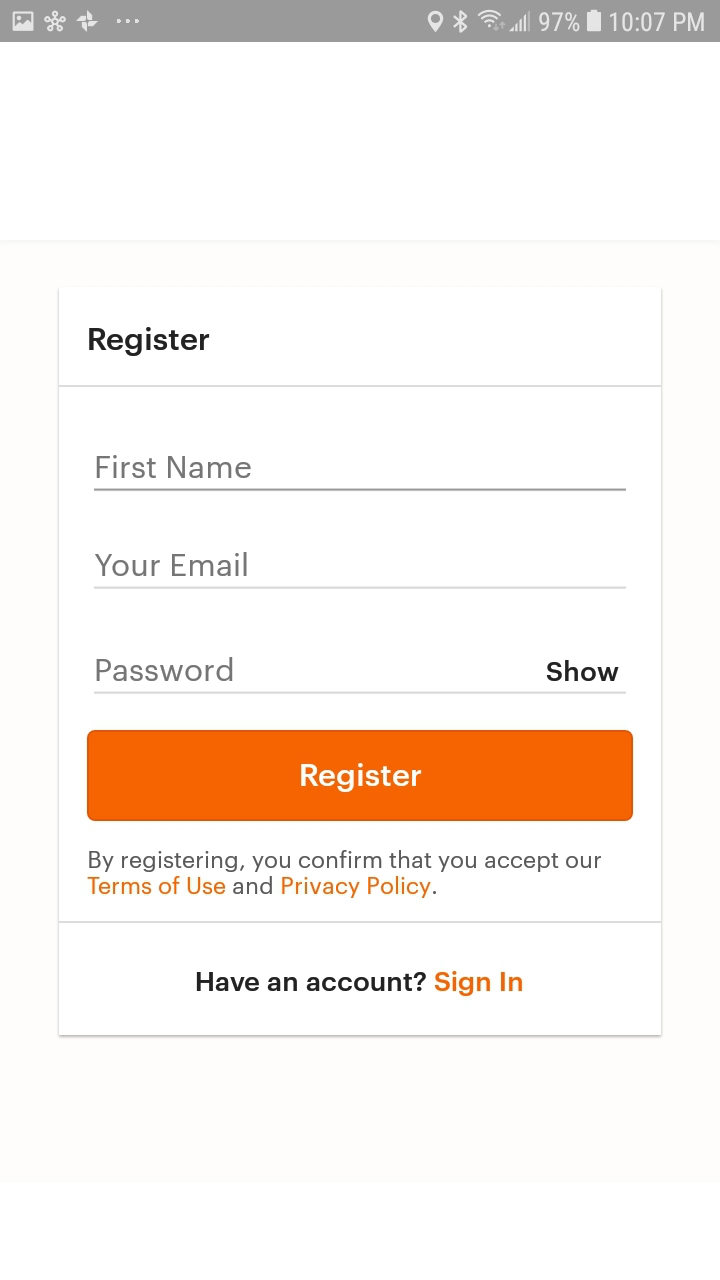EditText: (95, 552, 627, 591), (94, 455, 627, 493), (94, 657, 627, 695)
Text: (87, 851, 601, 898), (196, 970, 523, 997), (96, 455, 252, 480), (95, 553, 249, 578), (88, 327, 210, 358), (96, 658, 234, 683), (547, 660, 619, 682)
TextButton: (87, 730, 633, 823)
UpperTaskBar: (1, 1, 720, 43)
